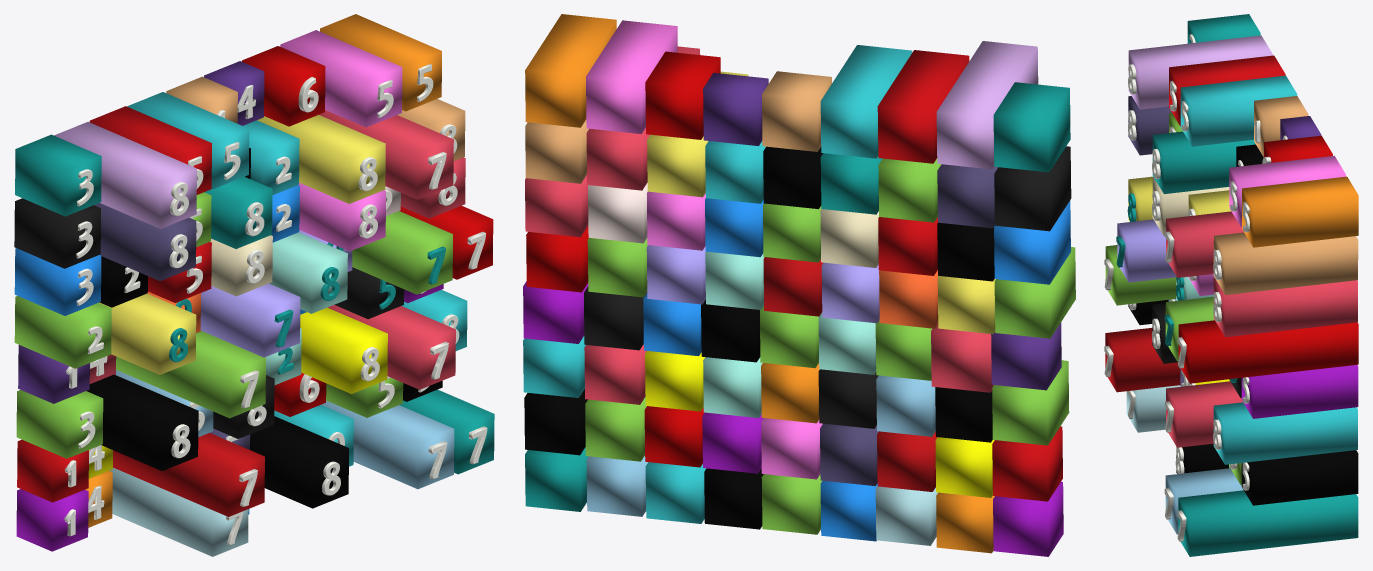
The model's file is number.glb.
3 renders of one model, left to right at view 1: azimuth 30°, elevation 25°; view 2: azimuth 150°, elevation 25°; view 3: azimuth 270°, elevation 25°, orthographic. The views are drawn at different scales.
Visible parts, largest first — view 1: Text.417; view 2: Text.417; view 3: Text.417.
Part boxes in pixels (left/top/right/bottom): Text.417: left=14, top=14, right=494, bottom=556; Text.417: left=523, top=14, right=1075, bottom=556; Text.417: left=1104, top=14, right=1358, bottom=556.
Size of the model in its own units: 0.553 by 0.4672 by 0.3074.
1 material, 1 textured.
